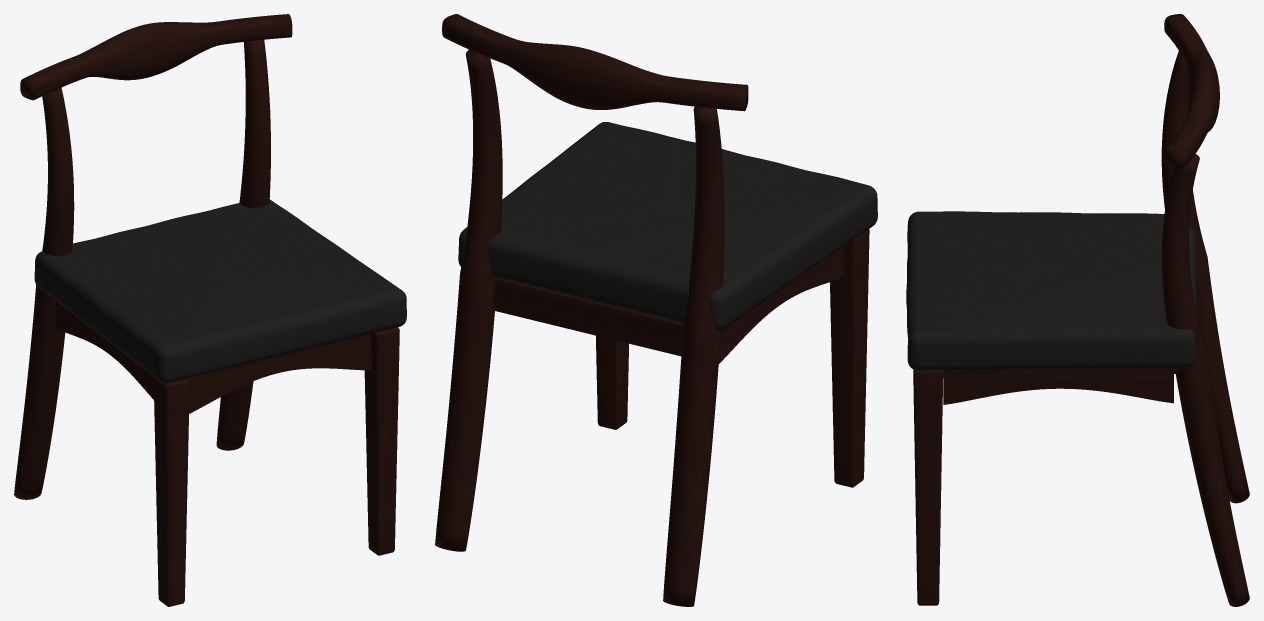
3 views of the same model, side by side, from view 1: azimuth 30°, elevation 25°; view 2: azimuth 150°, elevation 25°; view 3: azimuth 270°, elevation 25° (orthographic). The views are drawn at different scales.
Parts seen in each view (by area): view 1: lophus-dining-chair; view 2: lophus-dining-chair; view 3: lophus-dining-chair.
Boxes of the visible parts, x1,y1,x2,y2 form: lophus-dining-chair: [14, 14, 406, 606]; lophus-dining-chair: [435, 14, 877, 606]; lophus-dining-chair: [906, 14, 1249, 606].
Bounding box in the file's own units: 0.4979 × 0.8118 × 0.5248.
2 materials, 2 textured.
